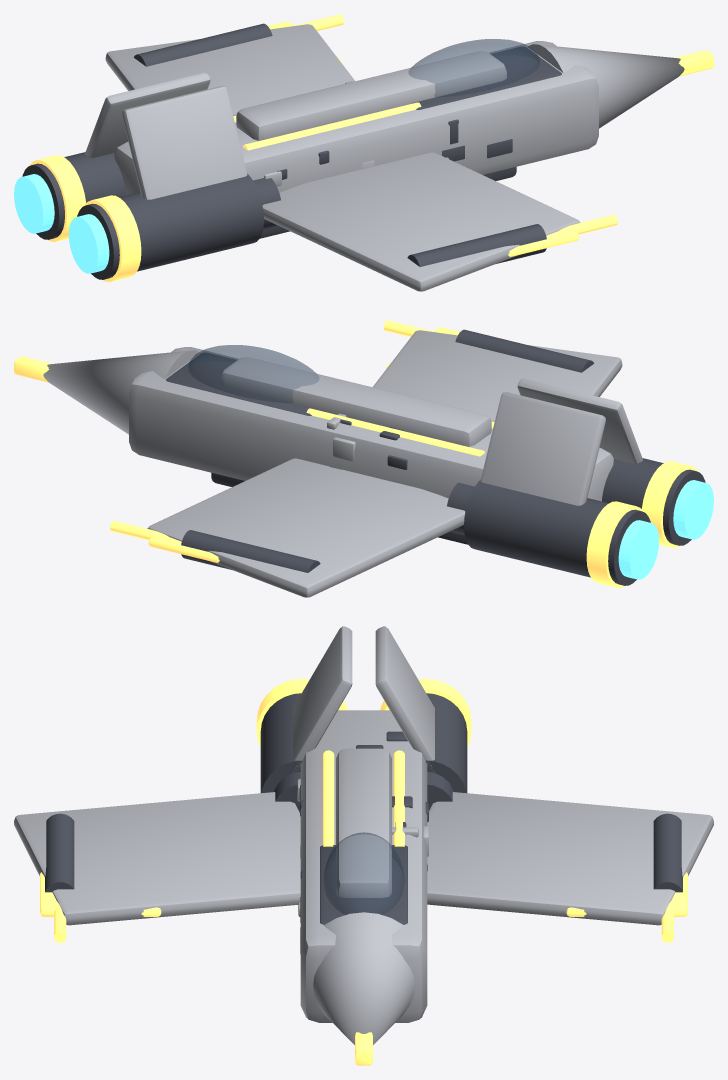
The model's file is SS_Ship.glb.
3 renders of one model, top to bottom at view 1: azimuth 30°, elevation 25°; view 2: azimuth 150°, elevation 25°; view 3: azimuth 270°, elevation 25°, orthographic. The views are drawn at different scales.
Visible parts, largest first — view 1: Wing_-1, Hull_Fuselage, Wing_1, TailFin_-1, Engine_-1, Hull_Spine, Hull_Nose, Cockpit_Glass, TailFin_1, Engine_1, Cockpit_Frame, WingPod_-1 (+11 smaller); view 2: Wing_1, Hull_Fuselage, Wing_-1, TailFin_1, Engine_1, Hull_Spine, Hull_Nose, Cockpit_Glass, TailFin_-1, Engine_-1, Cockpit_Frame, WingPod_1 (+12 smaller); view 3: Wing_-1, Wing_1, Hull_Fuselage, Hull_Nose, Hull_Spine, Cockpit_Glass, TailFin_-1, TailFin_1, Cockpit_Frame, Engine_-1, Engine_1, WingPod_-1 (+6 smaller).
Boxes of the visible parts, bbox=[...] form: Wing_-1: bbox=[262, 152, 580, 291]; Hull_Fuselage: bbox=[114, 41, 598, 195]; Wing_1: bbox=[105, 24, 354, 114]; TailFin_-1: bbox=[122, 86, 247, 199]; Engine_-1: bbox=[77, 173, 263, 279]; Hull_Spine: bbox=[236, 51, 506, 140]; Hull_Nose: bbox=[527, 44, 684, 128]; Cockpit_Glass: bbox=[408, 39, 539, 97]; TailFin_1: bbox=[85, 72, 210, 157]; Engine_1: bbox=[22, 152, 125, 239]; Cockpit_Frame: bbox=[412, 46, 561, 109]; WingPod_-1: bbox=[407, 224, 546, 266]; Wing_1: bbox=[147, 458, 465, 597]; Hull_Fuselage: bbox=[129, 347, 613, 501]; Wing_-1: bbox=[373, 330, 622, 420]; TailFin_1: bbox=[480, 392, 605, 505]; Engine_1: bbox=[464, 479, 650, 585]; Hull_Spine: bbox=[221, 357, 491, 446]; Hull_Nose: bbox=[43, 350, 200, 434]; Cockpit_Glass: bbox=[188, 345, 319, 403]; TailFin_-1: bbox=[517, 378, 642, 463]; Engine_-1: bbox=[602, 458, 705, 545]; Cockpit_Frame: bbox=[166, 352, 315, 415]; WingPod_1: bbox=[181, 530, 320, 572]; Wing_-1: bbox=[14, 792, 300, 925]; Wing_1: bbox=[427, 792, 713, 925]; Hull_Fuselage: bbox=[300, 710, 427, 1022]; Hull_Nose: bbox=[313, 912, 414, 1044]; Hull_Spine: bbox=[336, 748, 391, 897]; Cockpit_Glass: bbox=[323, 832, 404, 914]; TailFin_-1: bbox=[292, 626, 352, 772]; TailFin_1: bbox=[375, 626, 434, 771]; Cockpit_Frame: bbox=[320, 845, 407, 924]; Engine_-1: bbox=[260, 693, 301, 793]; Engine_1: bbox=[426, 693, 467, 793]; WingPod_-1: bbox=[45, 813, 74, 892].
Bounding box in the file's own units: 8.29 × 1.84 × 6.91.
